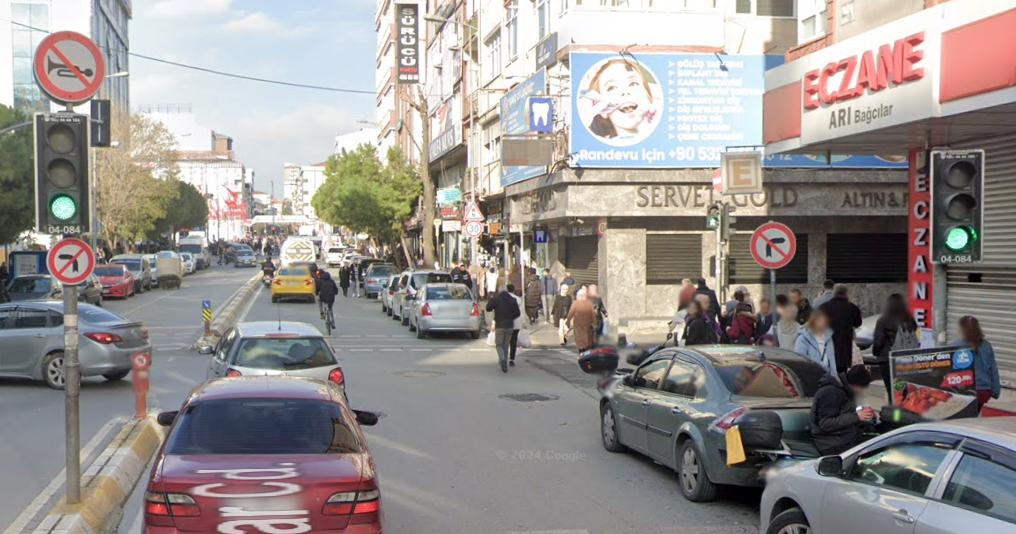greenlight: (35, 113, 90, 235), (929, 146, 979, 258)
leftturnsareforbidden: (50, 241, 95, 286)
rightturnsareforbidden: (754, 220, 795, 268)
